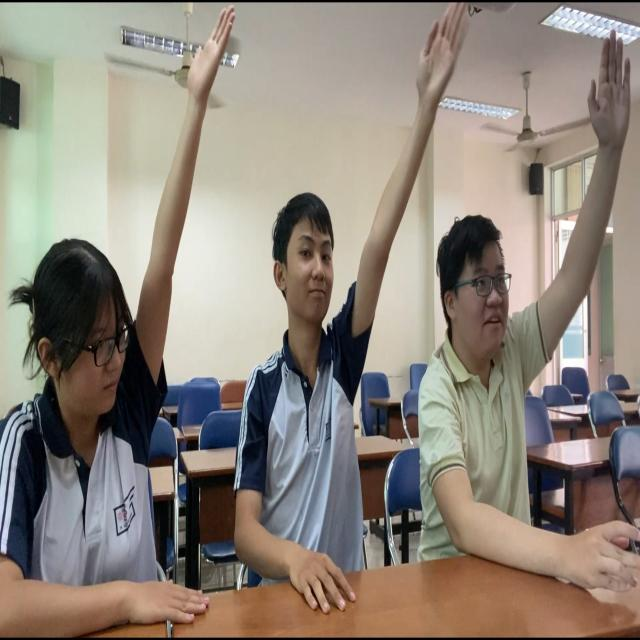raise_hand: (1, 1, 236, 636), (428, 1, 640, 640)
